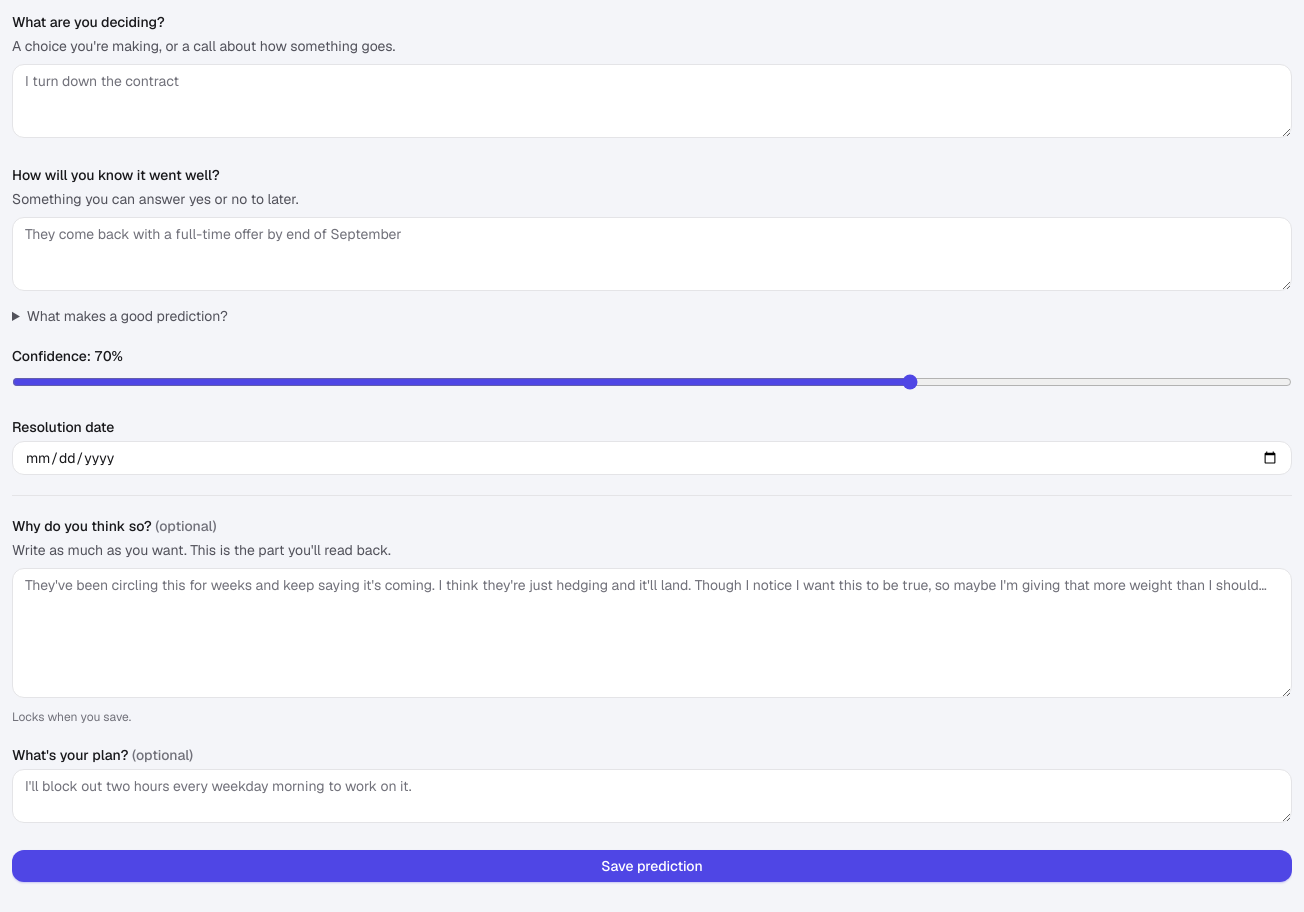
Test case: PredictionForm — capture requires both above-the-fold fields, independently › rejects an empty decision
In the date field with id "resolutionDate": (652, 458) [12,441,1292,475], type "2099-01-01"
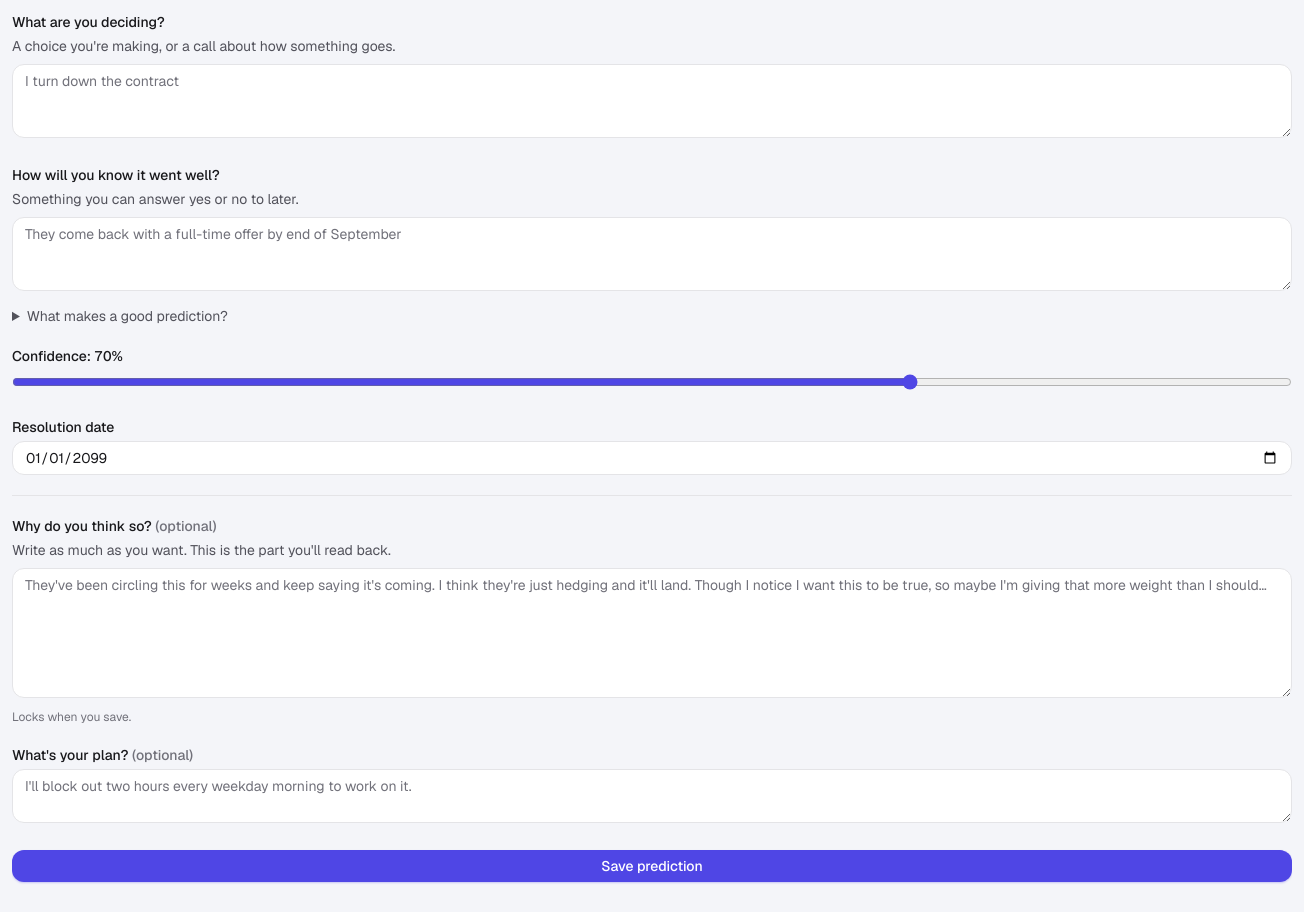
In the text box labelled "How will you know it went well?": (652, 254) [12,217,1292,291], type "They send an offer by Friday"
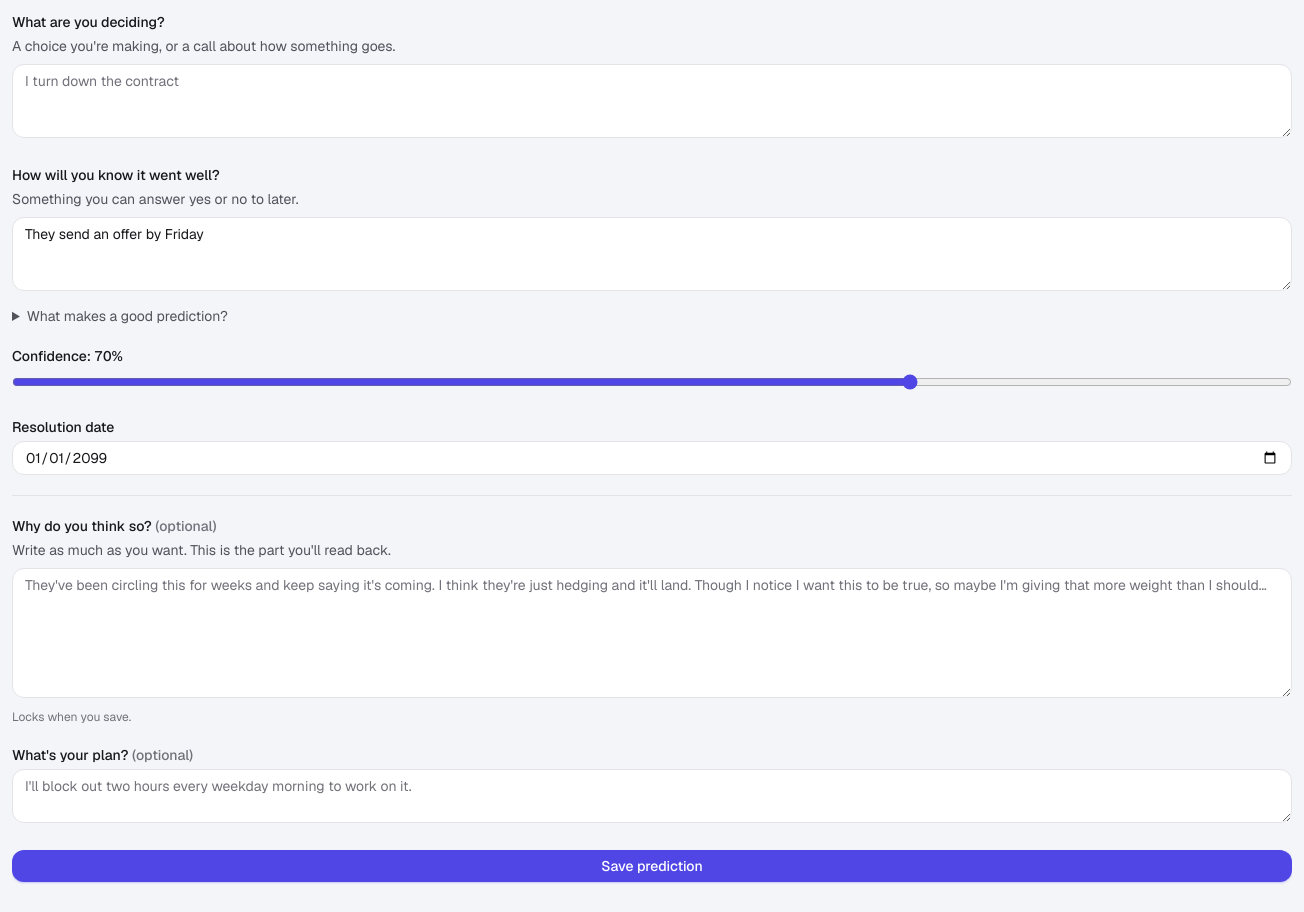
Submit the form
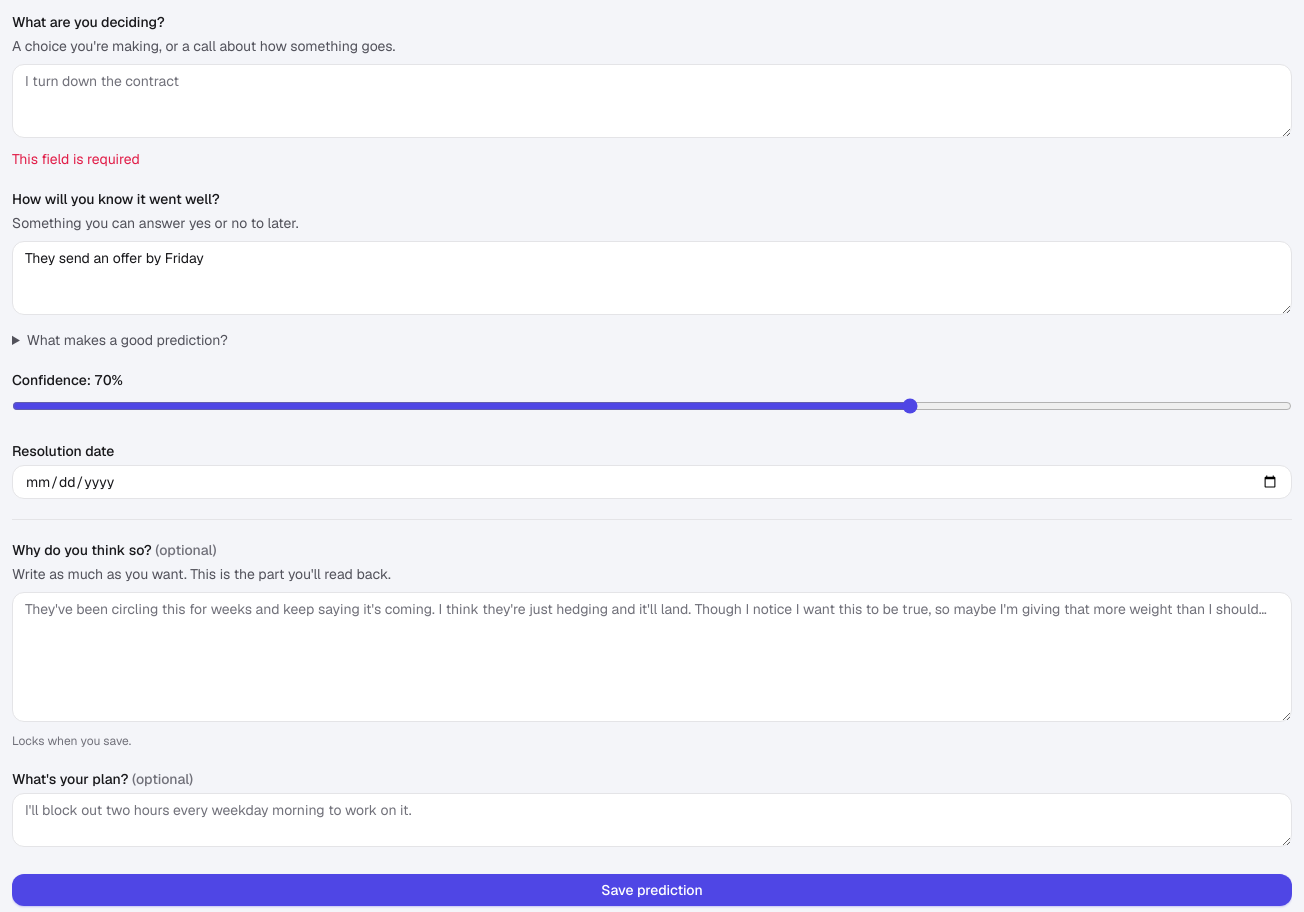
Expected: the text "This field is required" is shown, [12,150,140,168]
